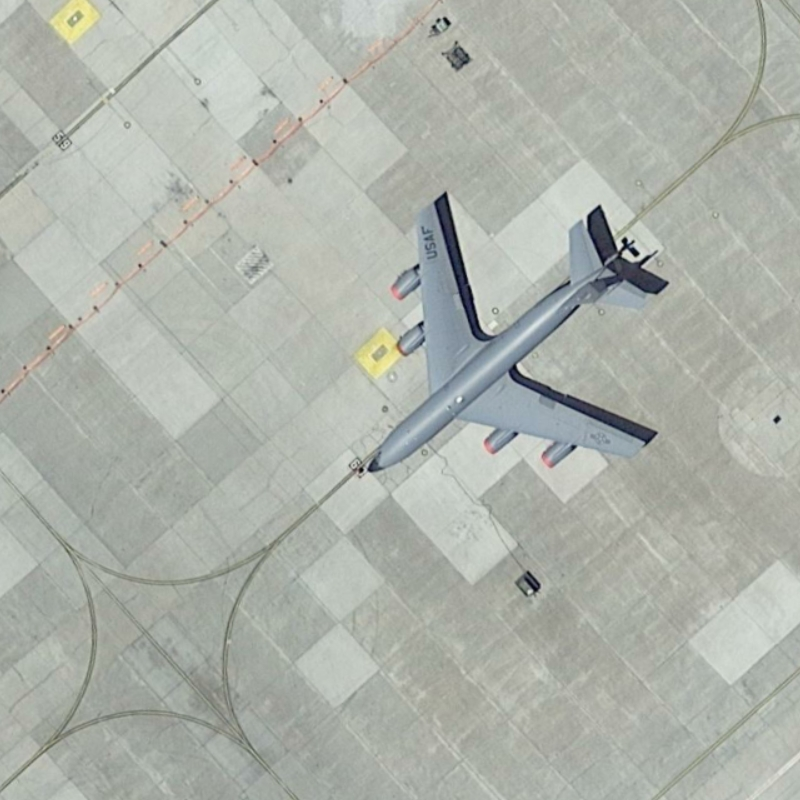A14: (356, 189, 673, 476)
